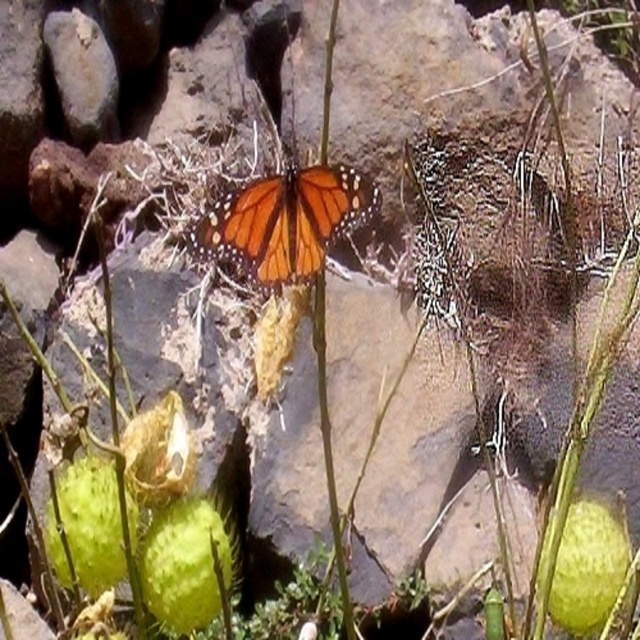Butterfly: (207, 72, 370, 329)
